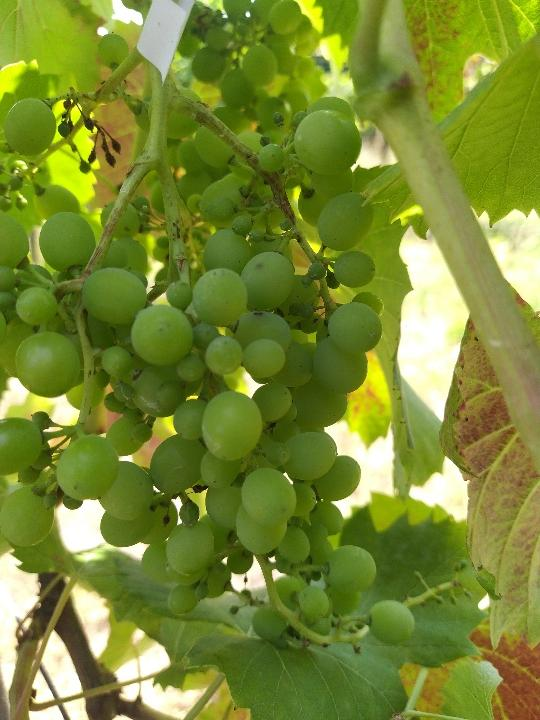grape: (4, 92, 421, 661)
